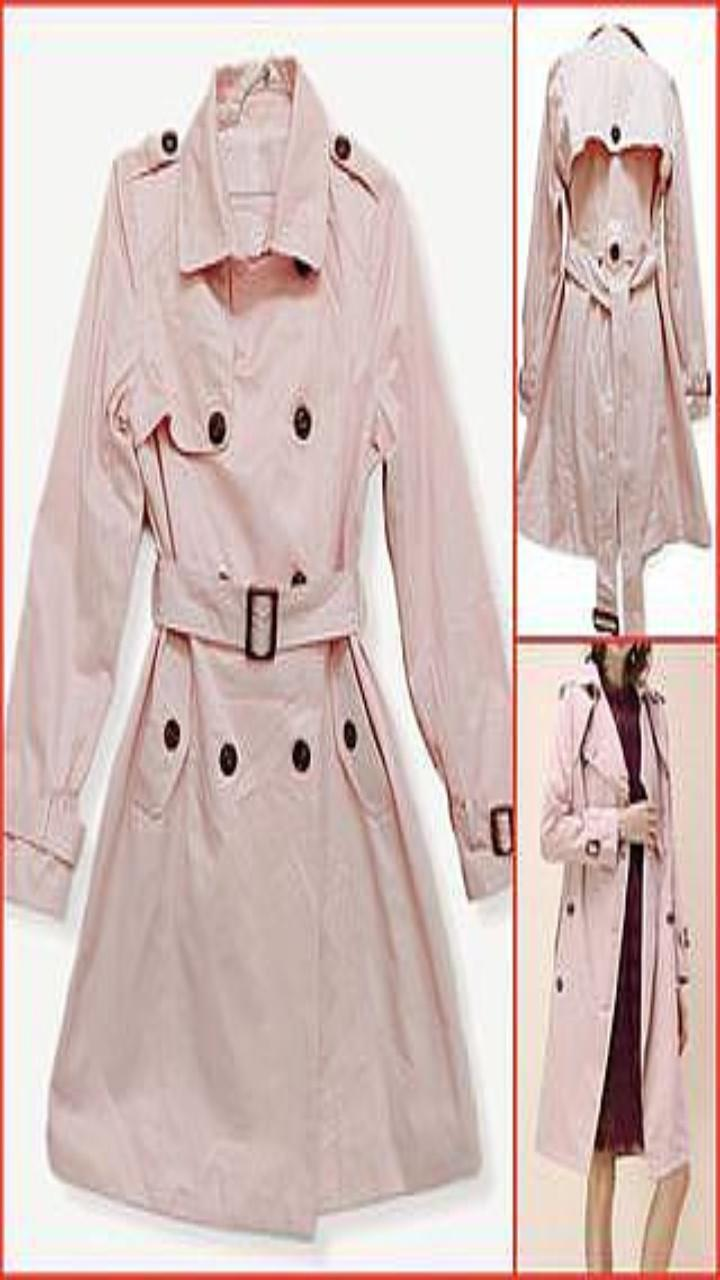Coat: (5, 59, 511, 1234), (518, 25, 709, 632), (536, 662, 629, 1171)
Dresses: (595, 844, 644, 1154)
